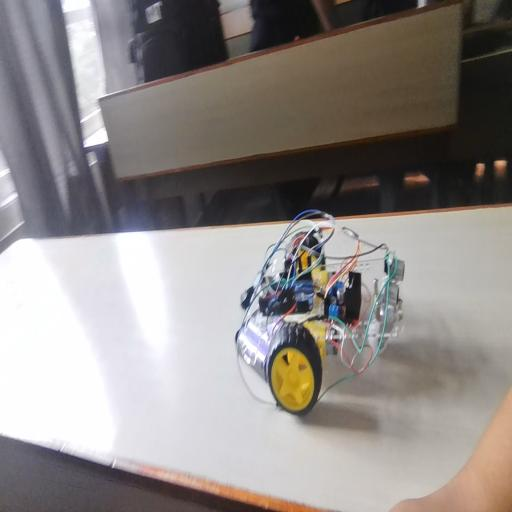car: (239, 184, 392, 503)
